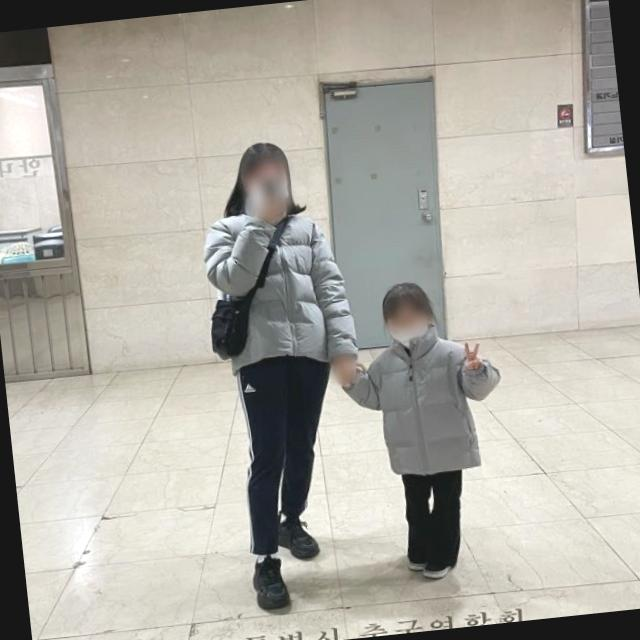padding: (199, 198, 361, 374), (342, 324, 508, 480)
trainingpants: (232, 353, 348, 554), (399, 467, 470, 568)
